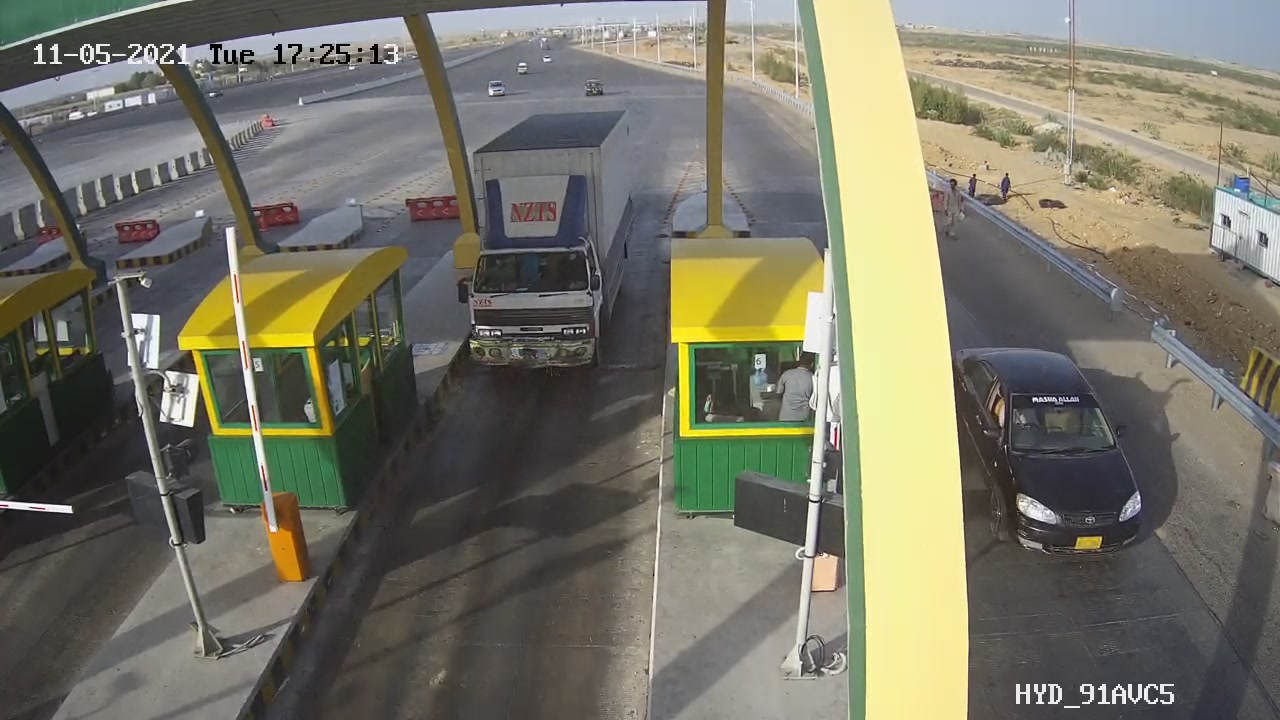F5: (448, 100, 663, 398)
